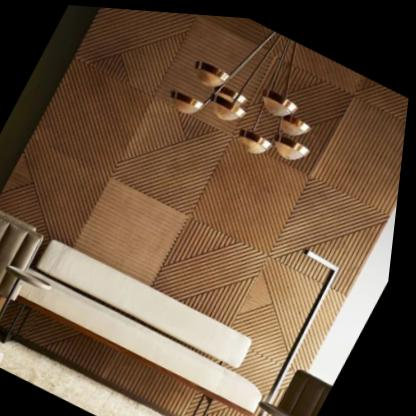Wall Panel: (0, 1, 416, 370)
